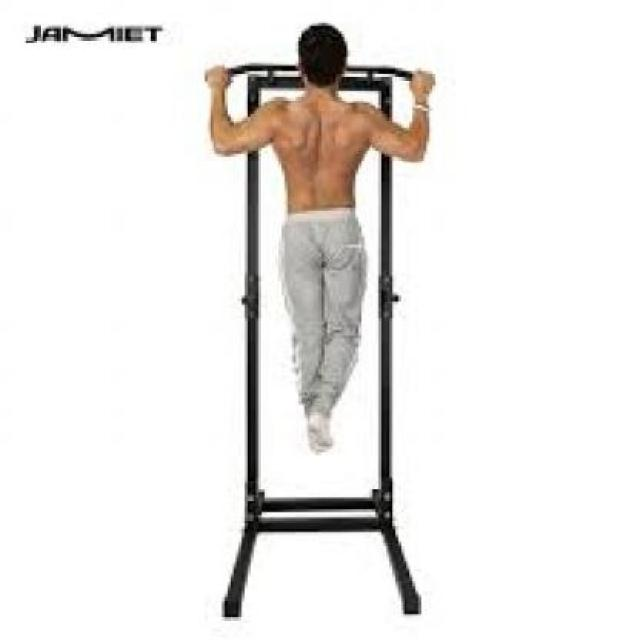chinning dipping: (203, 58, 434, 624)
